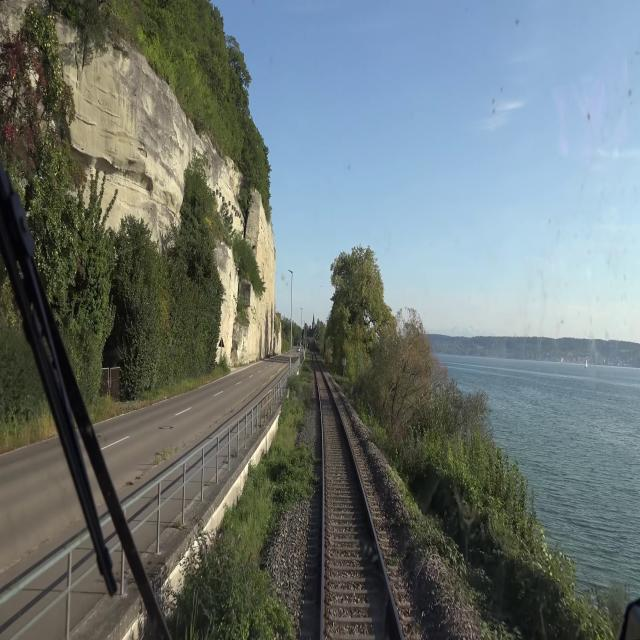rail-track: (315, 360, 399, 639)
